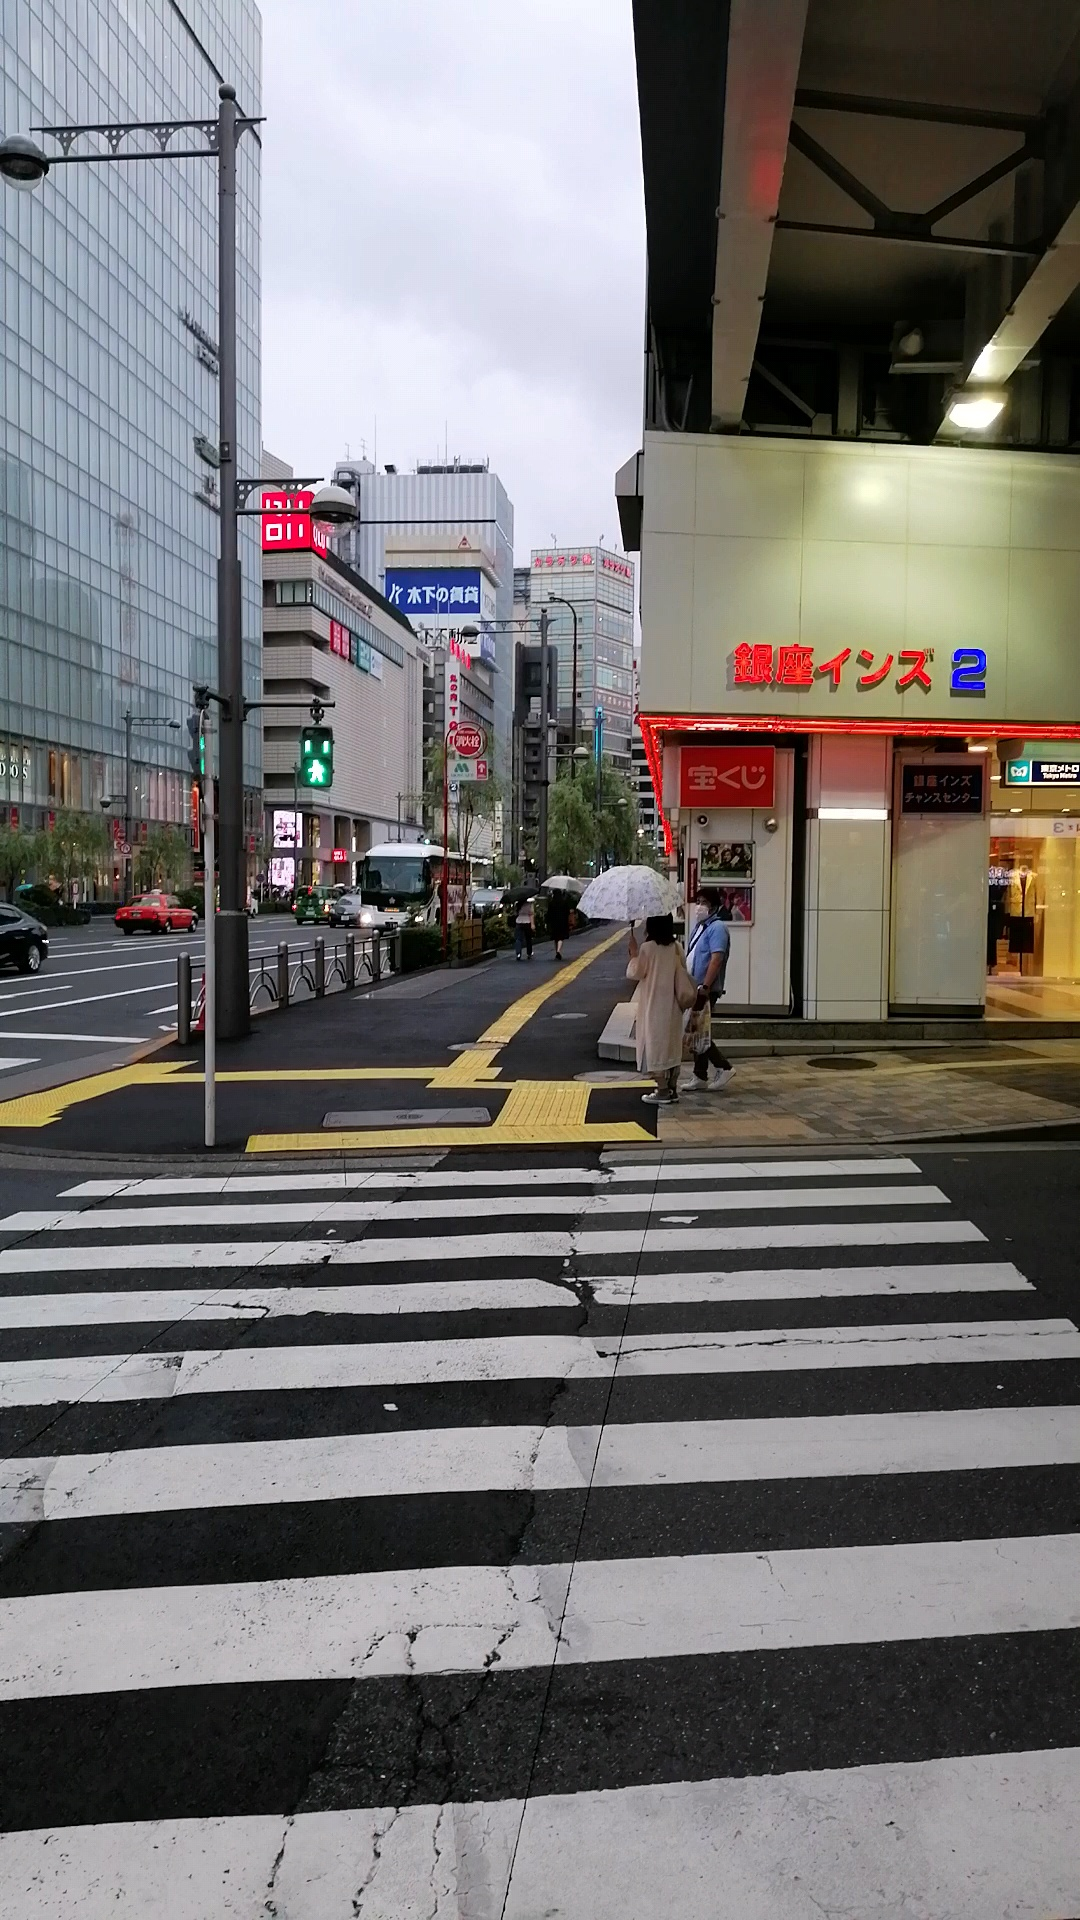green: (301, 727, 334, 789)
